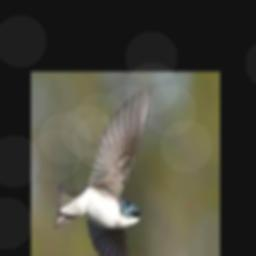Swallow: (55, 86, 151, 256)
